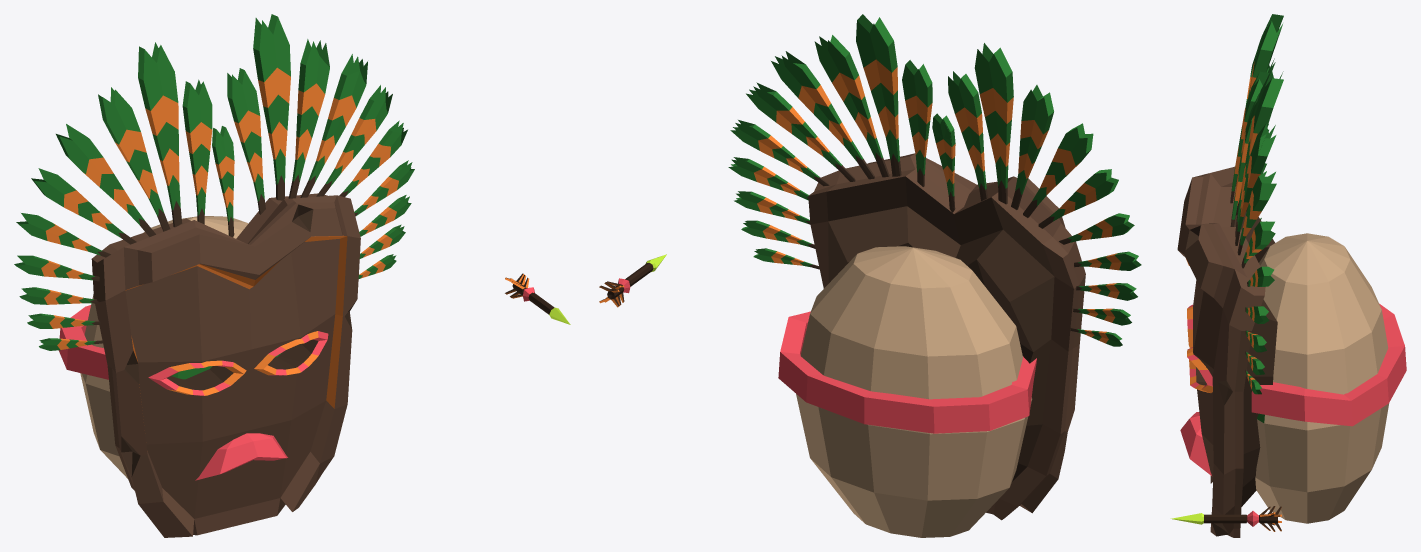
Rendered from Enemy 2.fbx.
3 views of the same model, side by side, from view 1: azimuth 30°, elevation 25°; view 2: azimuth 150°, elevation 25°; view 3: azimuth 270°, elevation 25° (orthographic). The views are drawn at different scales.
Visible parts, largest first — view 1: Cube.006, Cube.007; view 2: Cube.006, Cube.007; view 3: Cube.006, Cube.007.
Boxes of the visible parts, left/top/right/bottom form: Cube.006: left=14, top=14, right=414, bottom=537; Cube.007: left=505, top=273, right=570, bottom=324; Cube.006: left=728, top=14, right=1141, bottom=537; Cube.007: left=599, top=254, right=666, bottom=307; Cube.006: left=1177, top=14, right=1406, bottom=537; Cube.007: left=1170, top=506, right=1281, bottom=531.
Size of the model in its own units: 478 by 422 by 192.
